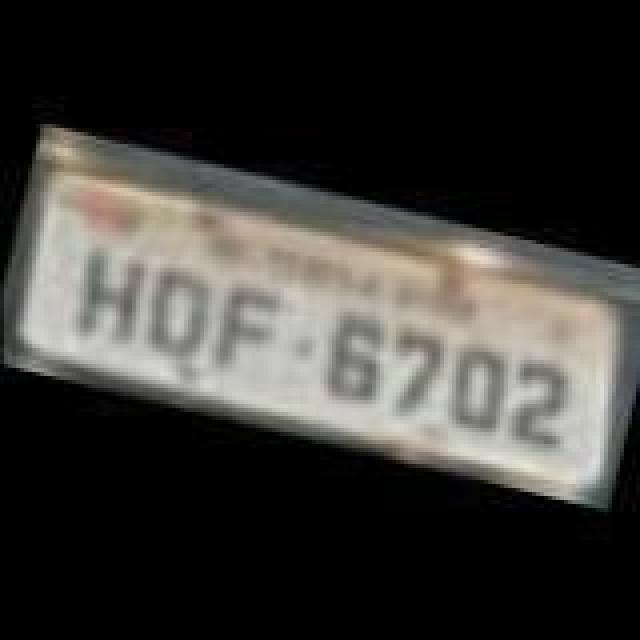2: (494, 352, 582, 456)
6: (314, 306, 394, 410)
7: (372, 322, 448, 426)
F: (202, 280, 290, 388)
H: (68, 242, 152, 350)
O: (134, 258, 222, 362), (434, 344, 522, 444)
